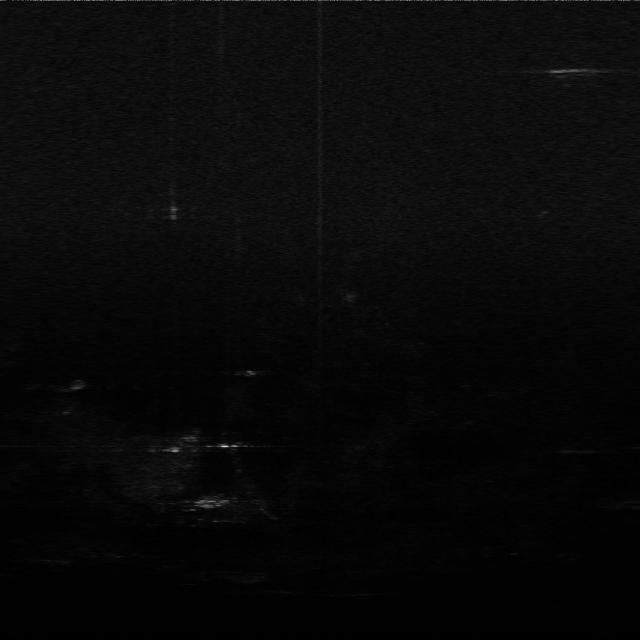rov: (188, 493, 232, 513)
